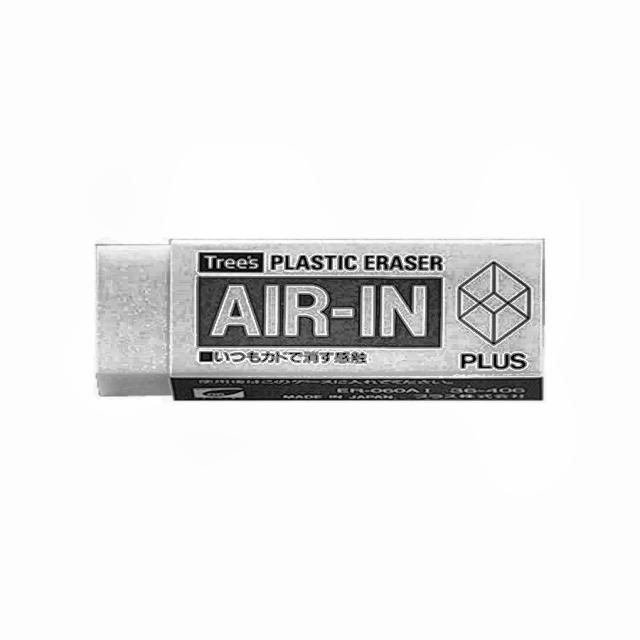eraser: (89, 236, 552, 406)
